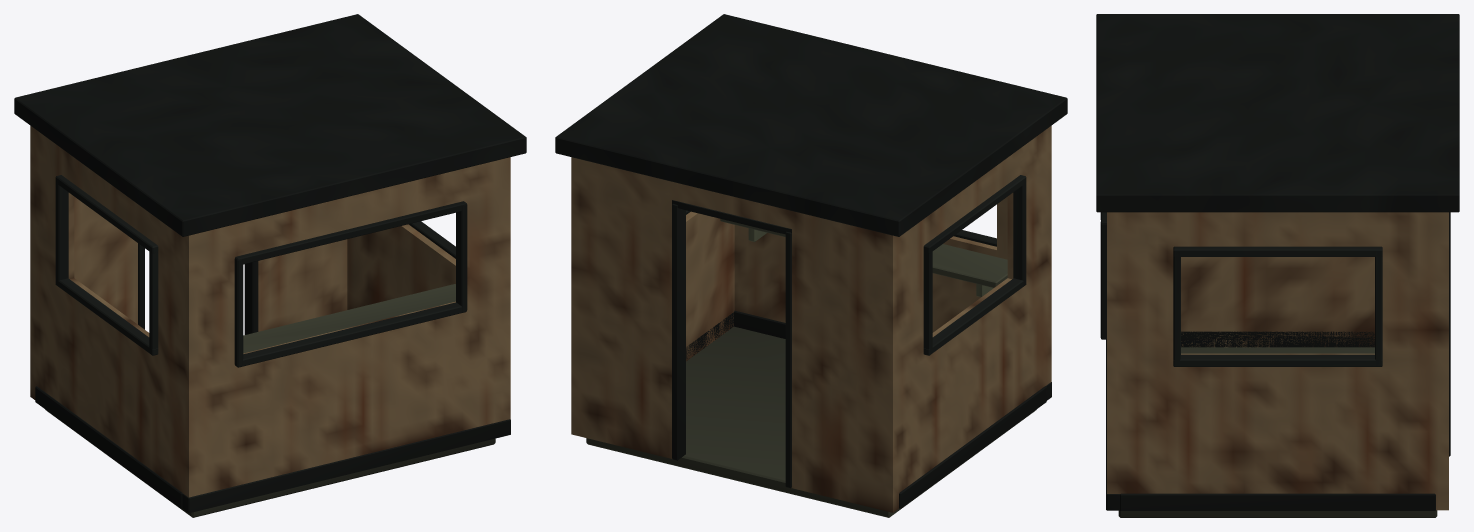
File: MetalSteezy_Cabanon_Garde.fbx
3 views of the same model, side by side, from view 1: azimuth 30°, elevation 25°; view 2: azimuth 150°, elevation 25°; view 3: azimuth 270°, elevation 25° (orthographic). The views are drawn at different scales.
Parts seen in each view (by area): view 1: MetalSteezy_Cabanon_Garde; view 2: MetalSteezy_Cabanon_Garde; view 3: MetalSteezy_Cabanon_Garde.
Boxes of the visible parts, bbox=[...] form: MetalSteezy_Cabanon_Garde: bbox=[14, 14, 526, 517]; MetalSteezy_Cabanon_Garde: bbox=[555, 14, 1067, 517]; MetalSteezy_Cabanon_Garde: bbox=[1096, 14, 1459, 517].
Size of what is drawn, in the model's own units: 3.15 by 2.67 by 2.71.
